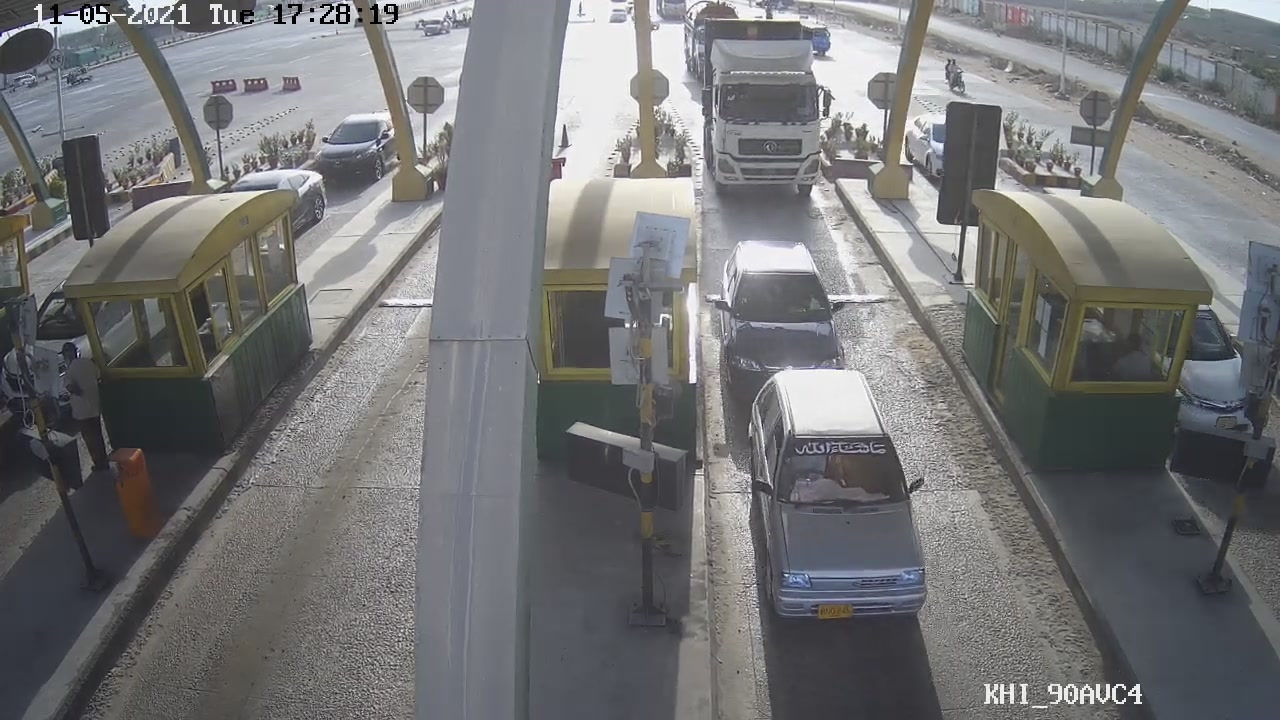F1: (742, 372, 943, 631)
F6: (698, 14, 837, 198)
